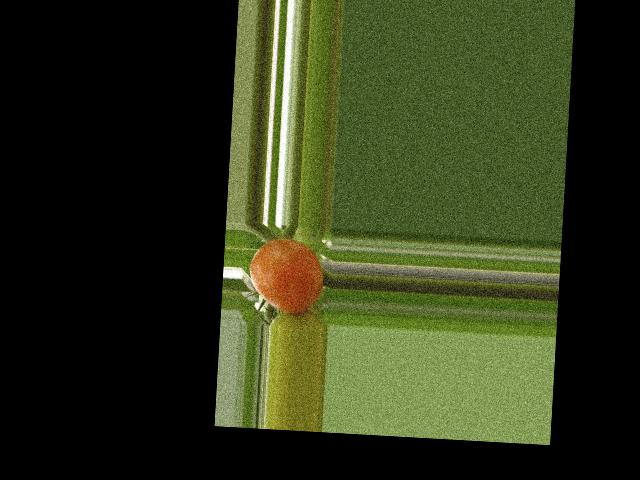tomato: (247, 236, 325, 315)
